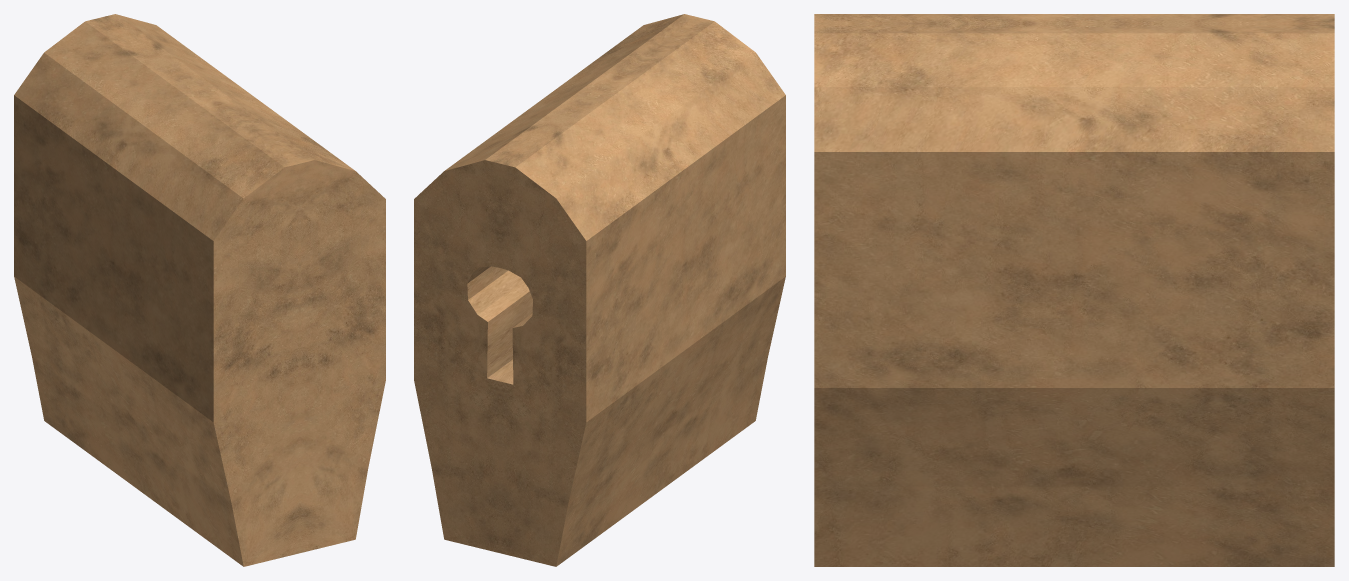
Rendered from lock.obj.
3 views of the same model, side by side, from view 1: azimuth 30°, elevation 25°; view 2: azimuth 150°, elevation 25°; view 3: azimuth 270°, elevation 25° (orthographic). The views are drawn at different scales.
Parts seen in each view (by area): view 1: Cube_Cube.003; view 2: Cube_Cube.003; view 3: Cube_Cube.003.
Part boxes in pixels (x1=…): Cube_Cube.003: x1=14, y1=14, x2=385, y2=566; Cube_Cube.003: x1=414, y1=14, x2=785, y2=566; Cube_Cube.003: x1=814, y1=14, x2=1334, y2=566.
Bounding box in the file's own units: 0.3041 × 0.6567 × 0.6096.
1 material, 1 textured.
